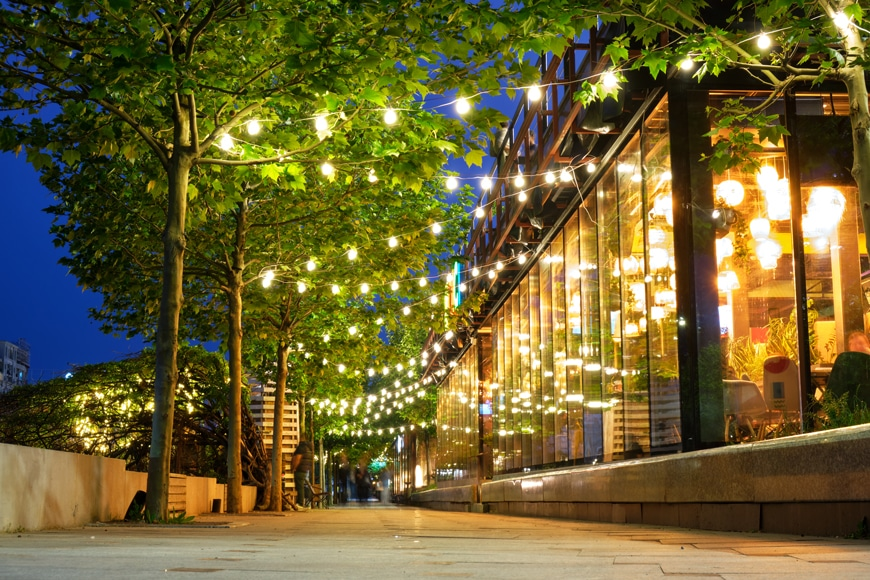Tree: (42, 1, 348, 516), (189, 1, 329, 521)
